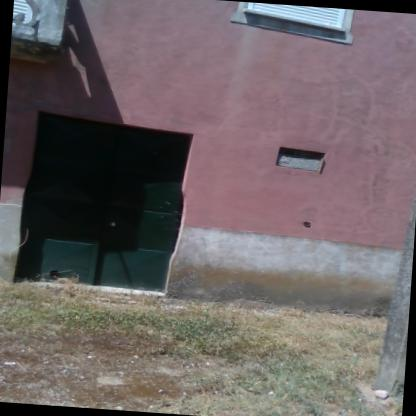closed: (12, 104, 197, 312)
